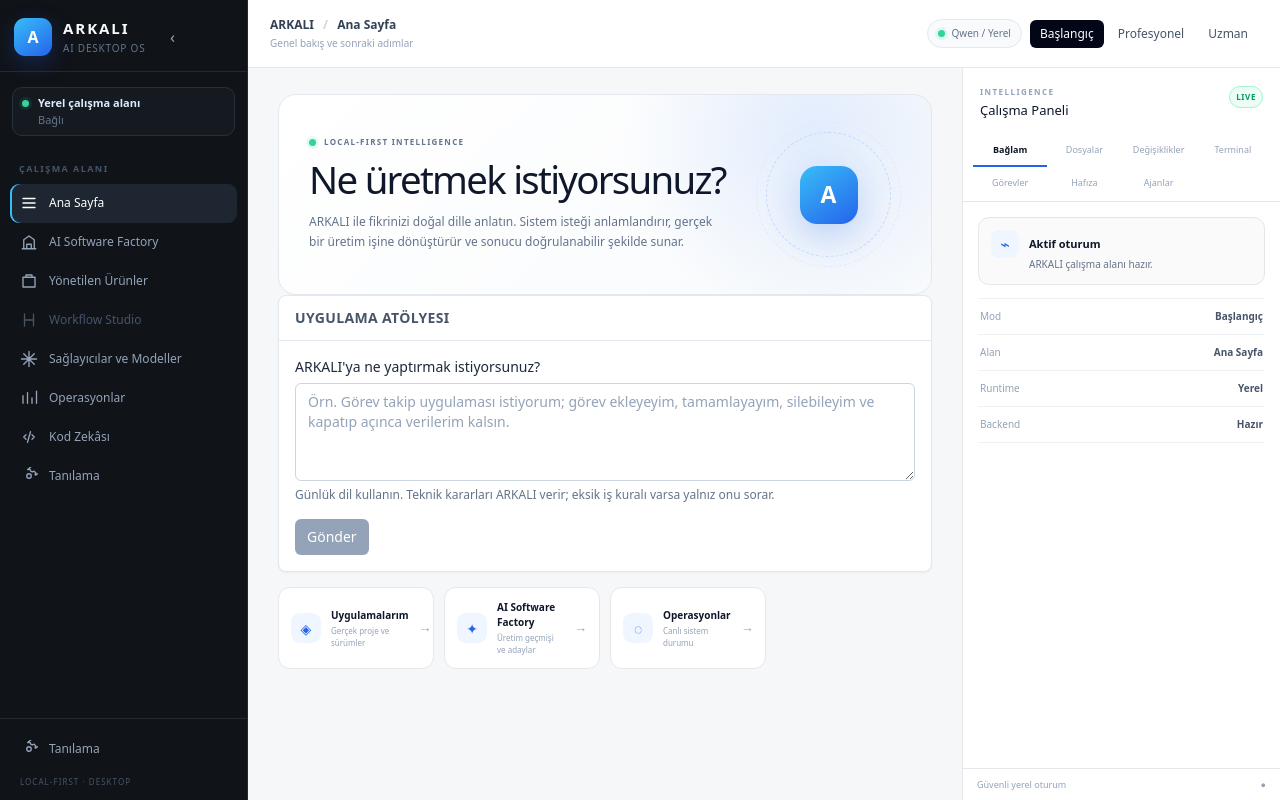
AI Software Factory history page › shows an honest empty state with no candidates or campaigns
This screenshot has width=1280, height=800.
Click the button "AI Software Factory".
click(124, 242)  # box [10,222,237,262]
(page scrolled)
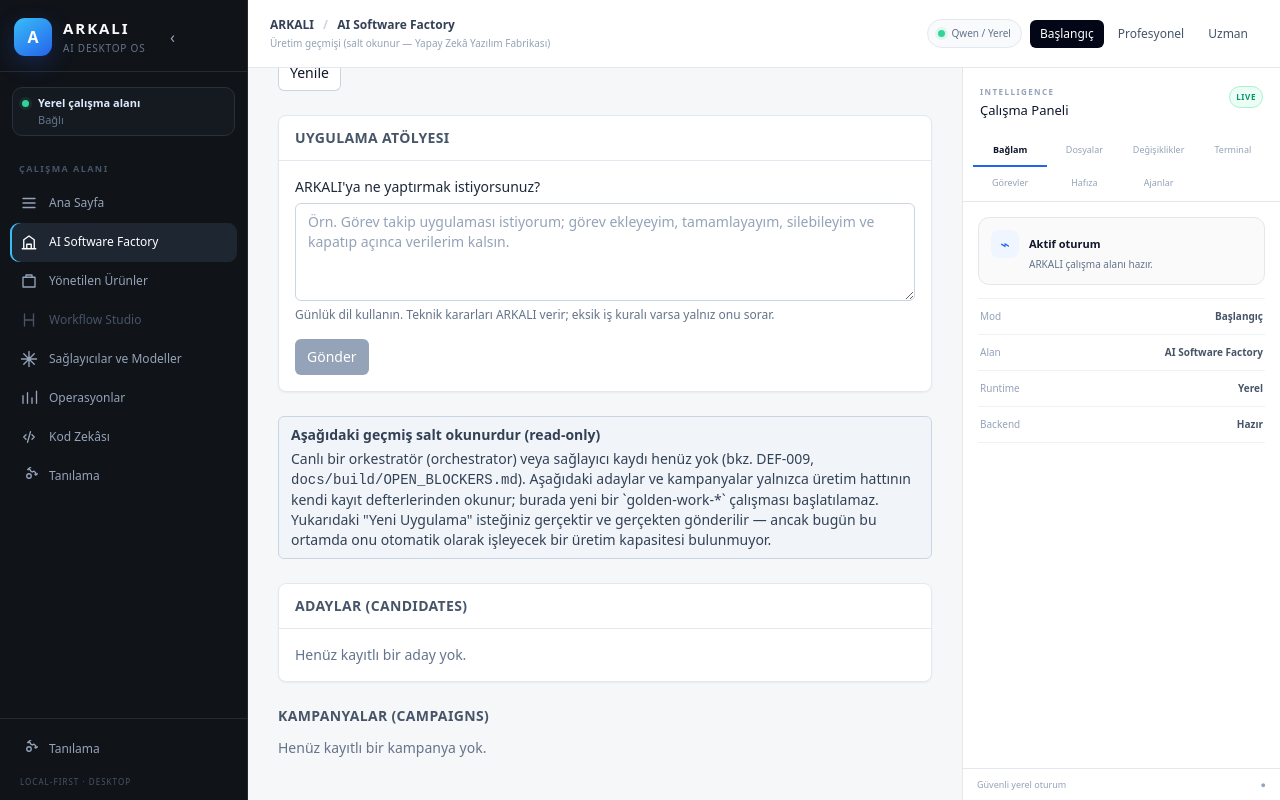
Expected: the text "Henüz kayıtlı bir aday yok." is shown, [295,645,466,664]
Expected: the text "Henüz kayıtlı bir kampanya yok." is shown, [278,738,486,757]
